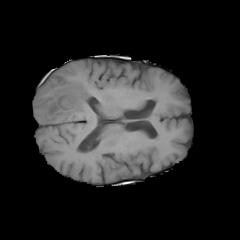glioma: (47, 80, 92, 117)
